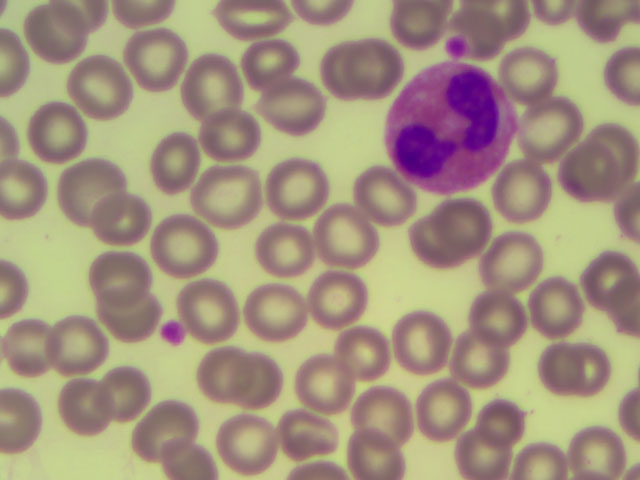Platelets: (443, 33, 467, 61), (160, 323, 184, 348)
RBC: (58, 161, 126, 228), (474, 229, 542, 296), (383, 307, 451, 374), (407, 372, 475, 439), (347, 384, 415, 451), (180, 55, 248, 122), (119, 21, 187, 88), (67, 54, 135, 121), (193, 166, 261, 233), (148, 212, 216, 279), (178, 277, 241, 345), (494, 152, 552, 221), (314, 207, 382, 265), (48, 316, 111, 377), (131, 400, 197, 458), (525, 272, 587, 333), (261, 159, 325, 218), (241, 281, 306, 339), (444, 326, 506, 385), (27, 2, 86, 64), (521, 96, 580, 158), (216, 413, 279, 471), (25, 1, 84, 62), (56, 373, 114, 434), (255, 215, 312, 277), (559, 139, 617, 199), (264, 80, 321, 141), (433, 196, 489, 256), (455, 424, 515, 480), (468, 287, 528, 342), (347, 39, 402, 99), (87, 249, 148, 303), (153, 128, 203, 193), (1, 385, 45, 457), (411, 215, 473, 266), (227, 351, 283, 407), (308, 270, 365, 325), (296, 350, 351, 406), (355, 171, 412, 225), (102, 361, 152, 422), (1, 316, 54, 373), (103, 289, 163, 339), (336, 328, 392, 381), (345, 428, 401, 480), (202, 105, 258, 157), (90, 194, 147, 245), (30, 105, 87, 156), (274, 410, 340, 454), (454, 1, 533, 37), (1, 164, 56, 215), (214, 1, 294, 36), (504, 46, 556, 98), (537, 344, 589, 396), (586, 121, 638, 173), (559, 342, 611, 394), (572, 428, 624, 480), (480, 395, 532, 447), (390, 1, 442, 53), (242, 37, 294, 89), (313, 40, 365, 92), (584, 253, 636, 305), (598, 270, 640, 334), (200, 345, 247, 400), (161, 439, 217, 480), (513, 439, 567, 480), (575, 1, 627, 43), (1, 254, 34, 318), (603, 49, 640, 105), (604, 176, 639, 234), (1, 34, 32, 98), (47, 1, 107, 34), (109, 1, 179, 29), (384, 1, 454, 29), (291, 1, 352, 29), (282, 458, 350, 480), (614, 381, 640, 436), (1, 117, 25, 168), (531, 1, 571, 24), (610, 1, 640, 31)
WBC: (387, 61, 511, 192)
